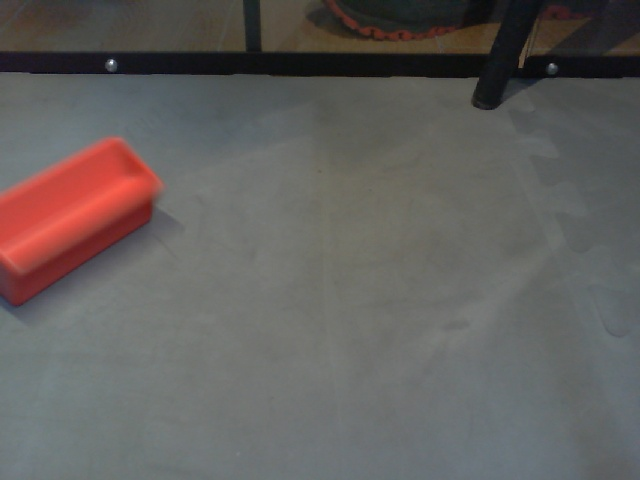RedSample: (1, 134, 164, 309)
